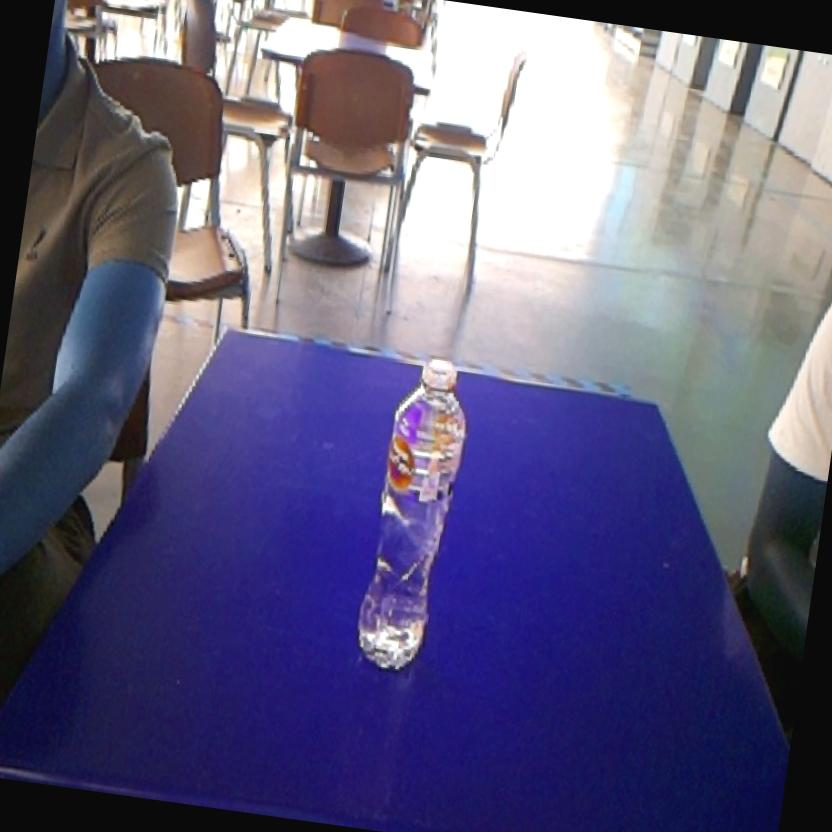no_cap: (343, 337, 484, 689)
